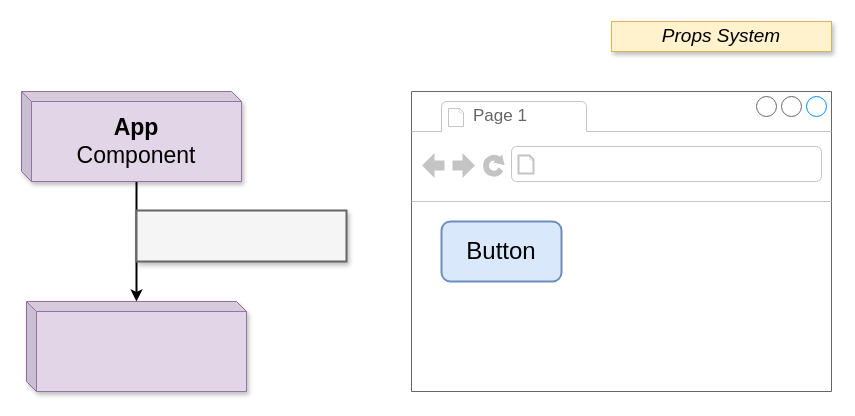
This 855x416 diagram has some shape labels left out. Here are the shapes that lost their labels. From the top down, the centre of each, then its label:
(x=242, y=237): color = "blue"
(x=137, y=347): Button Component
